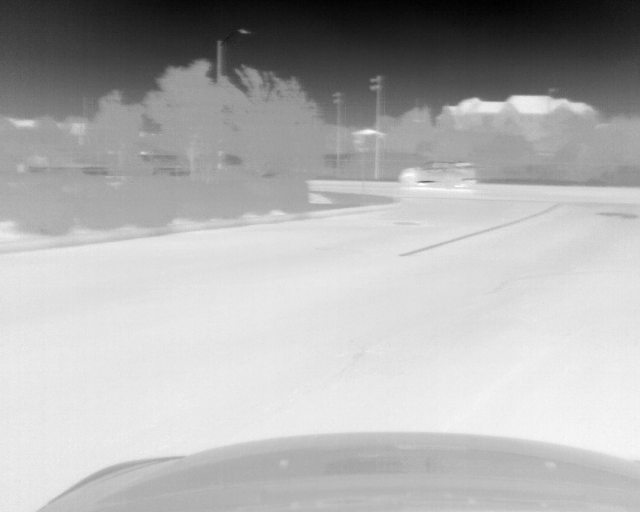car: (398, 161, 476, 191)
